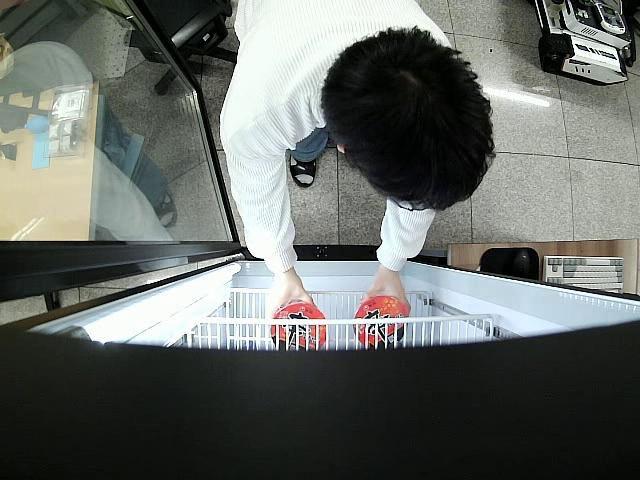00_hand: (267, 267, 317, 322), (362, 267, 412, 319)
01_shinRamen_L: (354, 294, 409, 347), (272, 303, 325, 350)
